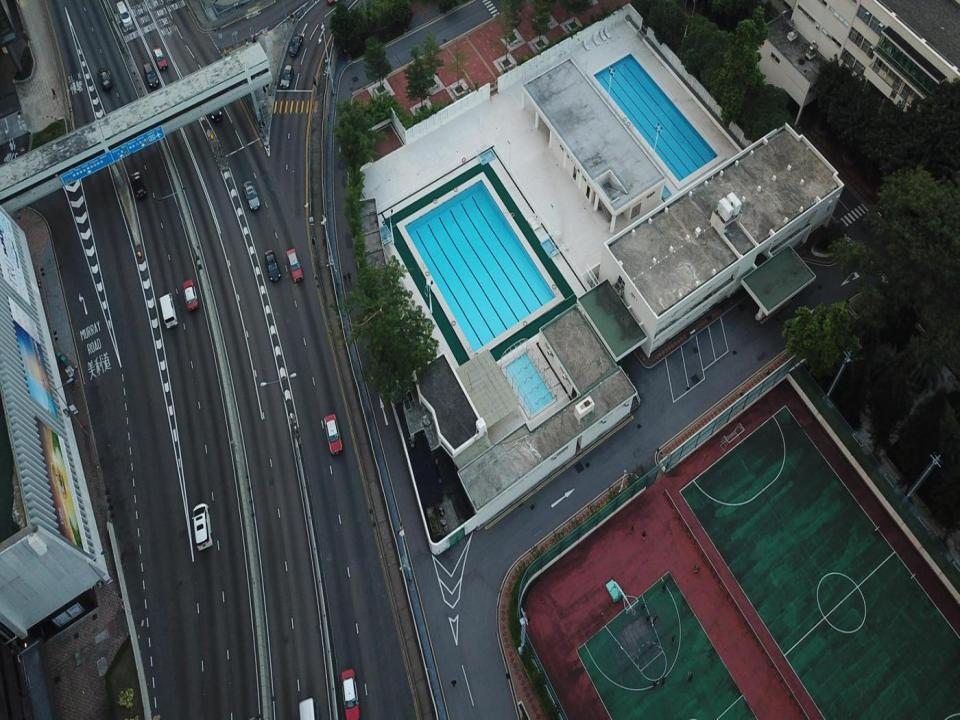car: (341, 669, 361, 719), (192, 503, 212, 550), (324, 412, 342, 455), (286, 248, 304, 282), (265, 250, 281, 282), (182, 278, 198, 310), (243, 180, 260, 209), (131, 171, 147, 199), (143, 62, 159, 88), (153, 46, 168, 71), (290, 33, 303, 57), (281, 66, 294, 90), (98, 68, 112, 90), (208, 98, 222, 120)
van: (159, 292, 178, 329), (298, 697, 318, 719), (116, 0, 132, 26)
